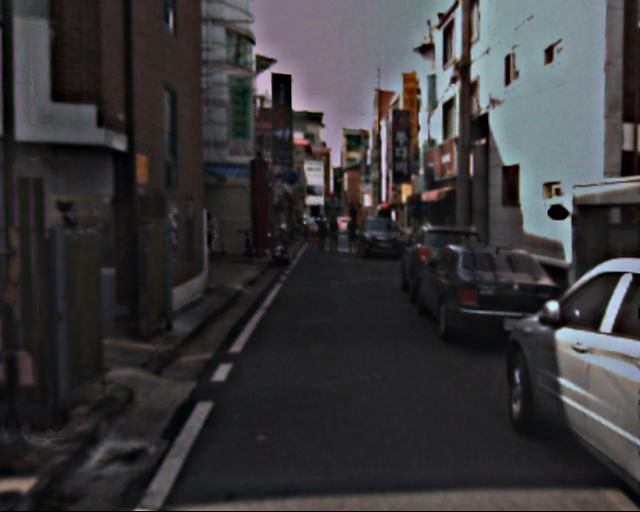person: (345, 217, 361, 256), (327, 214, 343, 253), (314, 215, 329, 251)
